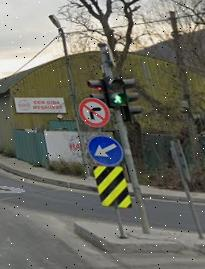rightturnsareforbidden: (81, 99, 108, 126)
